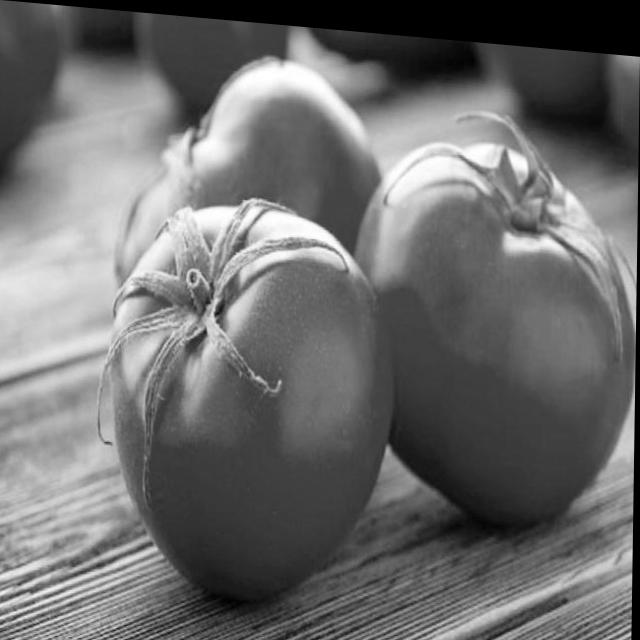kirmizi: (87, 89, 411, 597)
